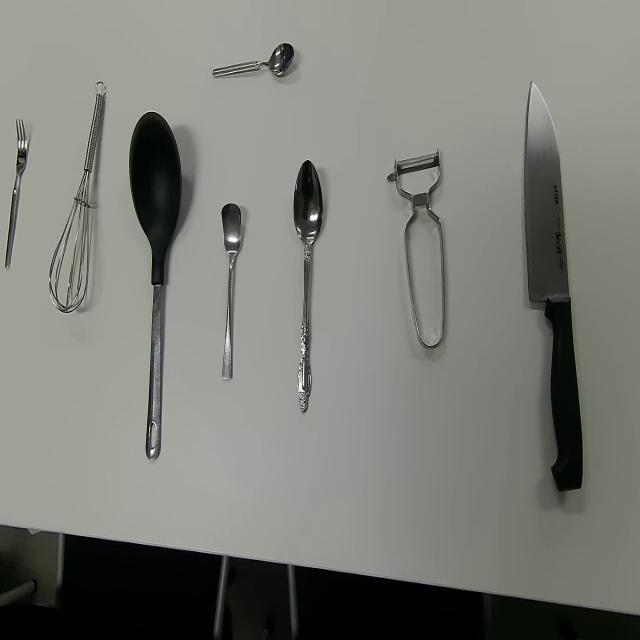Desert-Spoon: (293, 159, 324, 414)
Dinner-Fork: (4, 116, 28, 272)
Kitchen-Knife: (524, 80, 584, 493)
Peeler: (386, 147, 446, 350)
Serving-Spoon: (128, 110, 183, 463)
Tea-Spoon: (221, 202, 242, 380), (211, 41, 295, 80)
Whisk: (48, 80, 107, 314)
